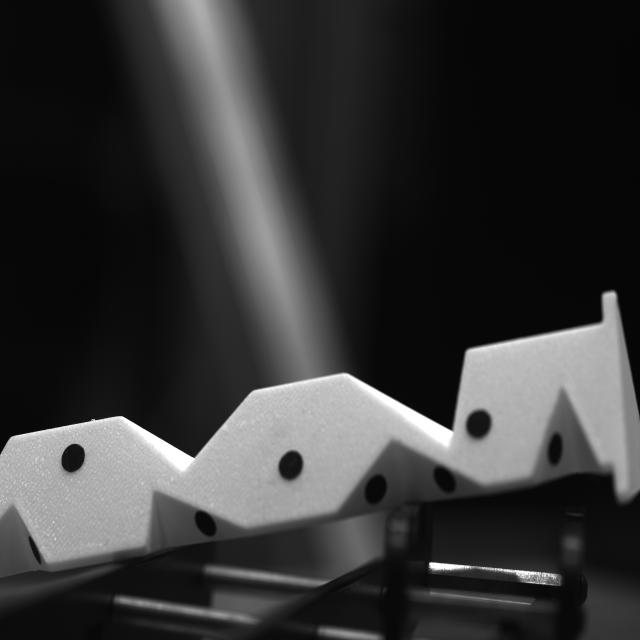circle point: (278, 450, 304, 481), (466, 409, 492, 439), (432, 465, 457, 496), (365, 474, 387, 506), (61, 444, 86, 472), (194, 510, 217, 538)
